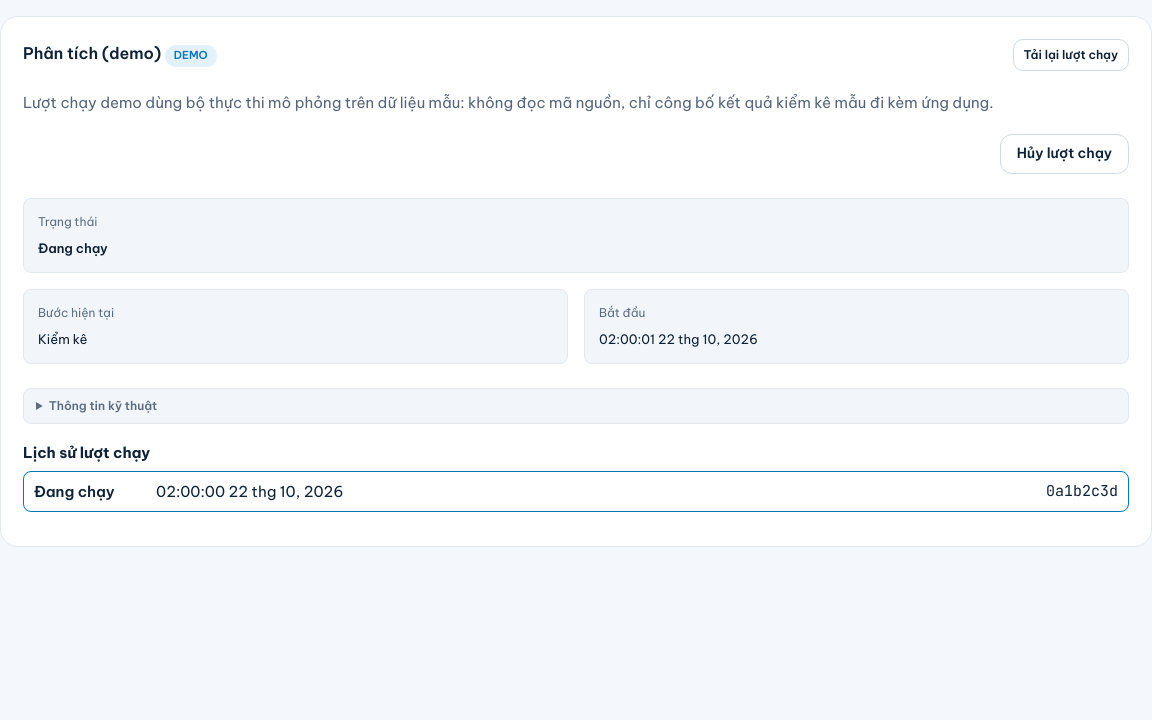
Test: Analyze run panel (F02) › cancels with the expected version and stays pending until the backend is terminal
Click the button "Hủy lượt chạy" at (1064, 154), box 1000,134 -> 1129,174
Wait 2000 ms
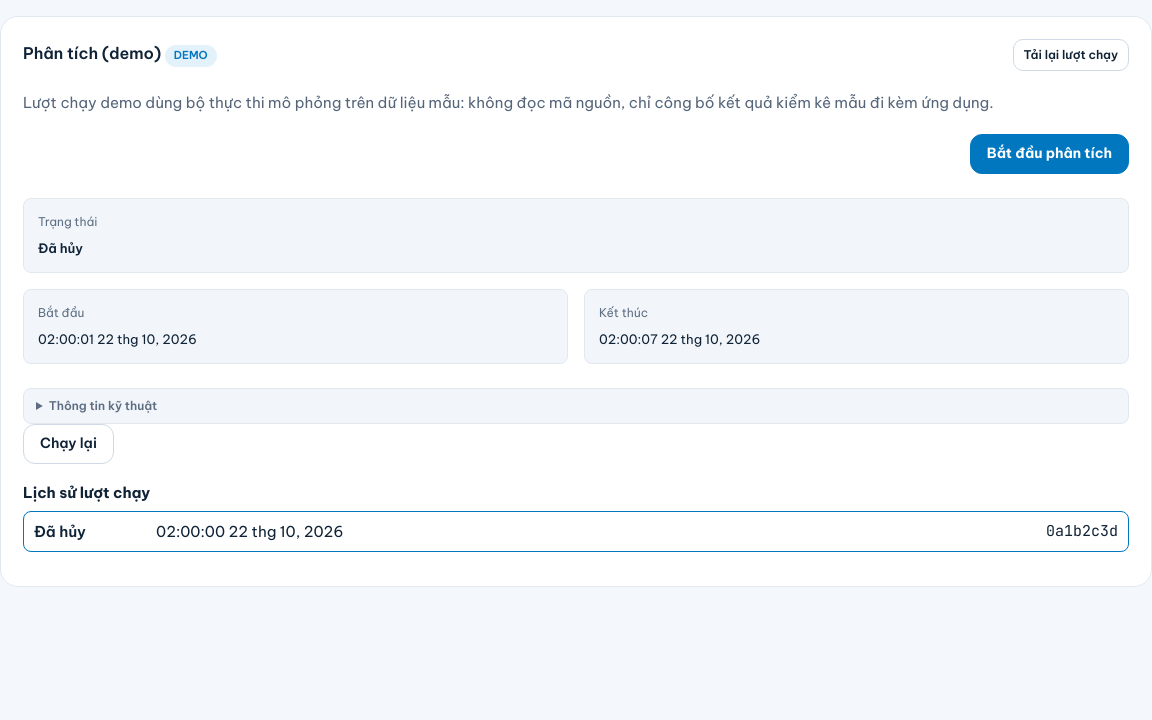
Result: the button "Hủy lượt chạy" is gone
Result: the button "Bắt đầu phân tích" is shown at 970,134 -> 1129,174
